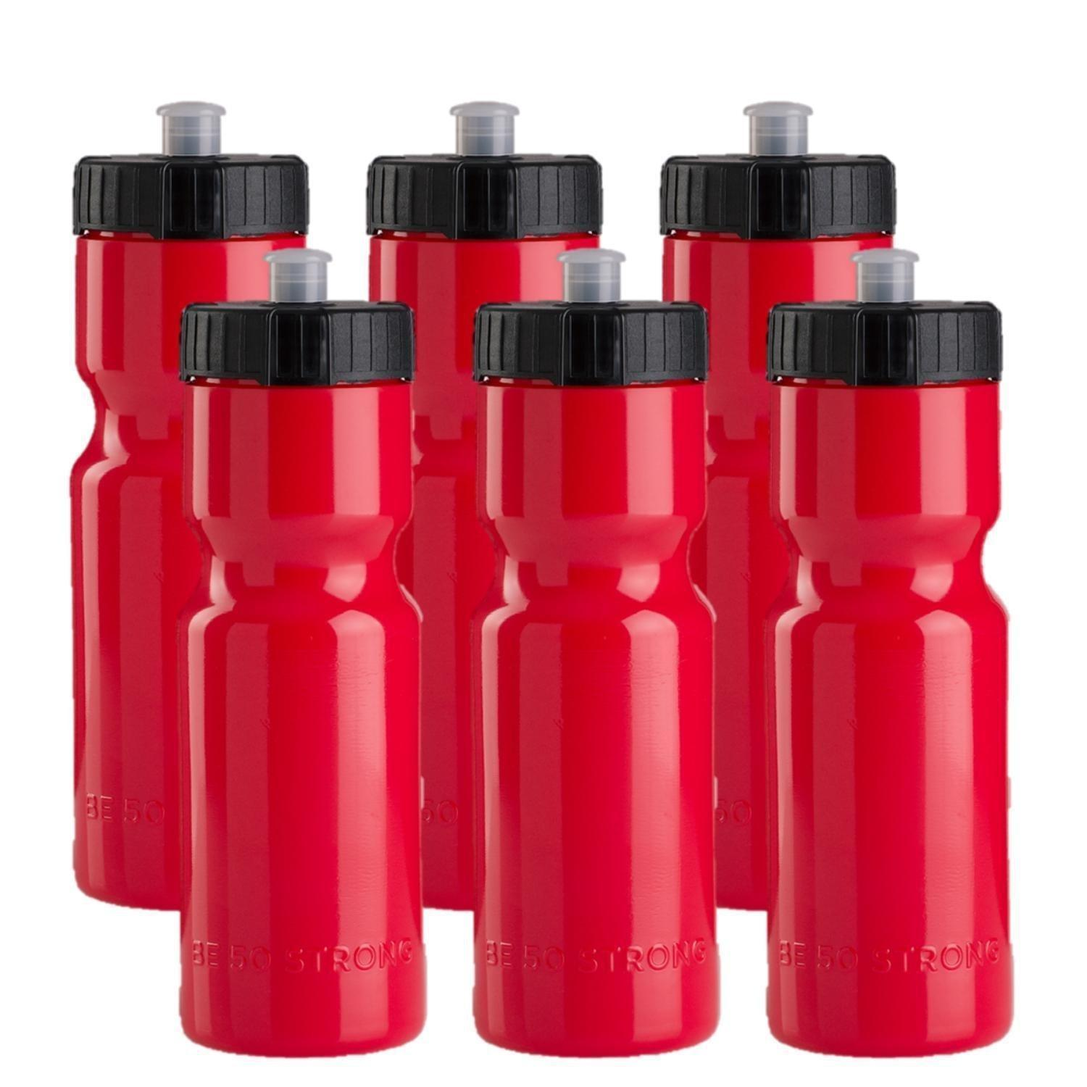gym bottle: (744, 247, 1022, 1062), (450, 259, 728, 1062), (168, 258, 432, 1060), (58, 98, 313, 908), (363, 97, 612, 913), (663, 97, 897, 911)
